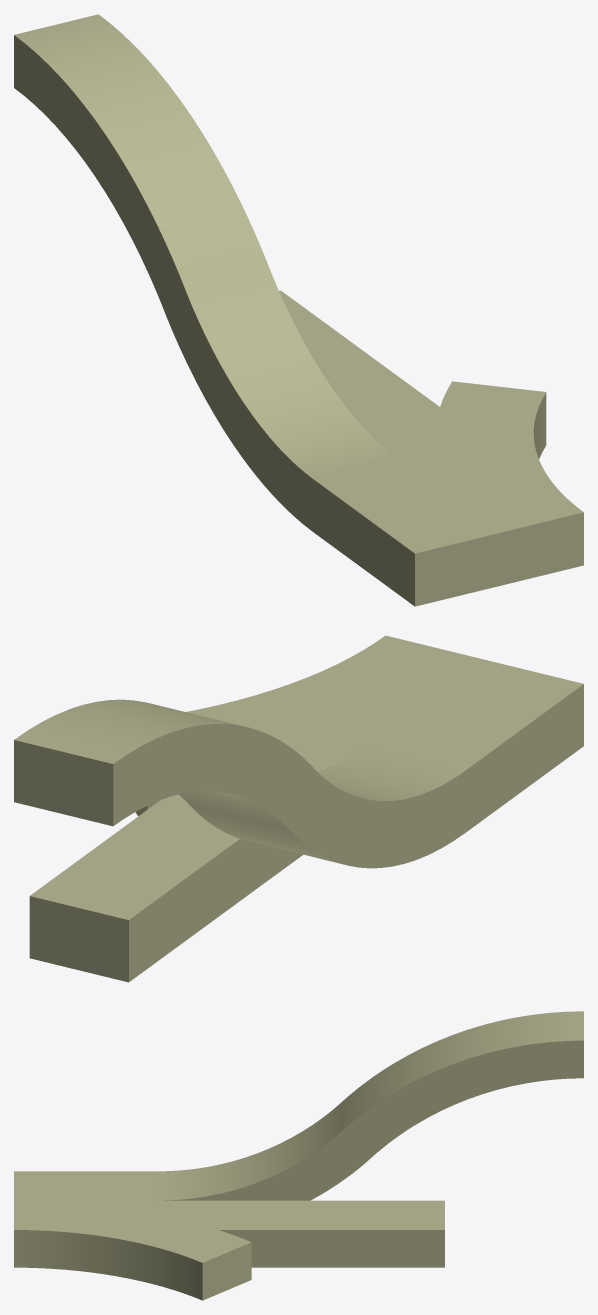
The model's file is model_06_hover.glb.
The picture shows the model from 3 angles, top to bottom: view 1: azimuth 30°, elevation 25°; view 2: azimuth 150°, elevation 25°; view 3: azimuth 270°, elevation 25°; orthographic projection. The views are drawn at different scales.
Size of the model in its own units: 95.31 by 95.91 by 251.
